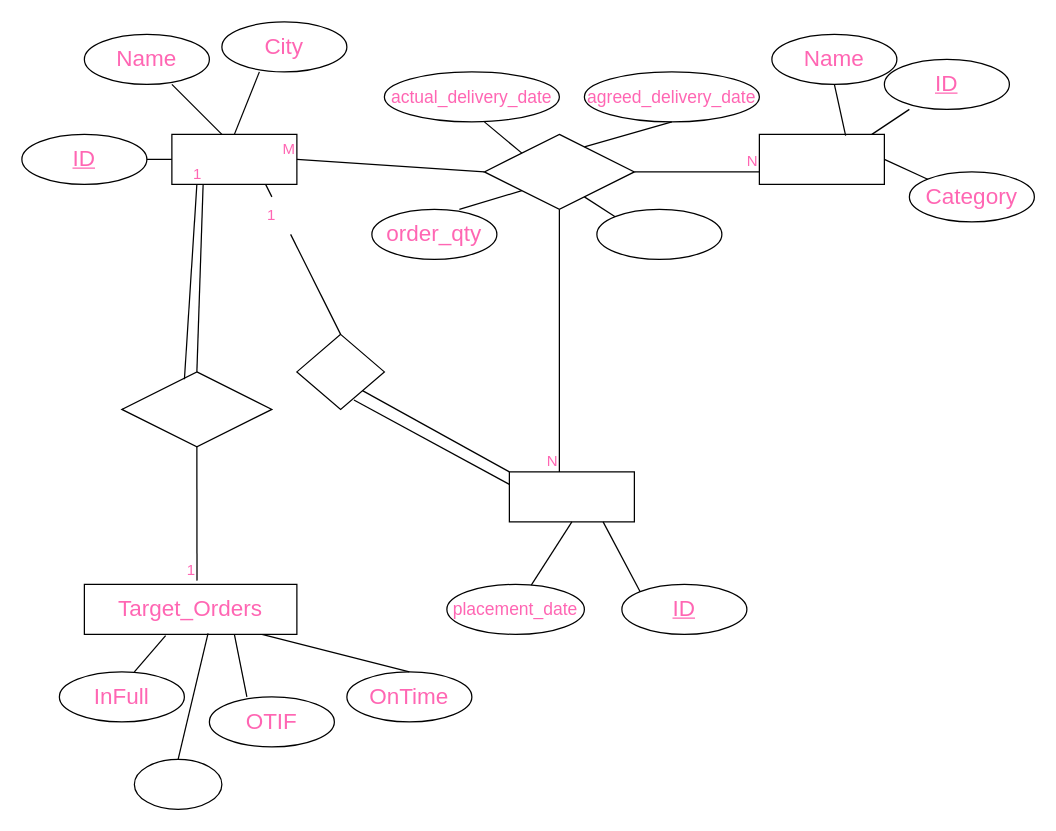
The diagram is 1056 pixels wide and 831 high, and some of its shapes have lost their labels. Here are the shapes that lost their labels. From the top down, the centre of each, then its label:
At [234,158]: "Customer".
At [558,171]: "make_order_line".
At [821,158]: "Product".
At [659,233]: "delivered_qty".
At [340,371]: "place".
At [196,409]: "Has".
At [571,496]: "Order".
At [177,783]: "target_id".
